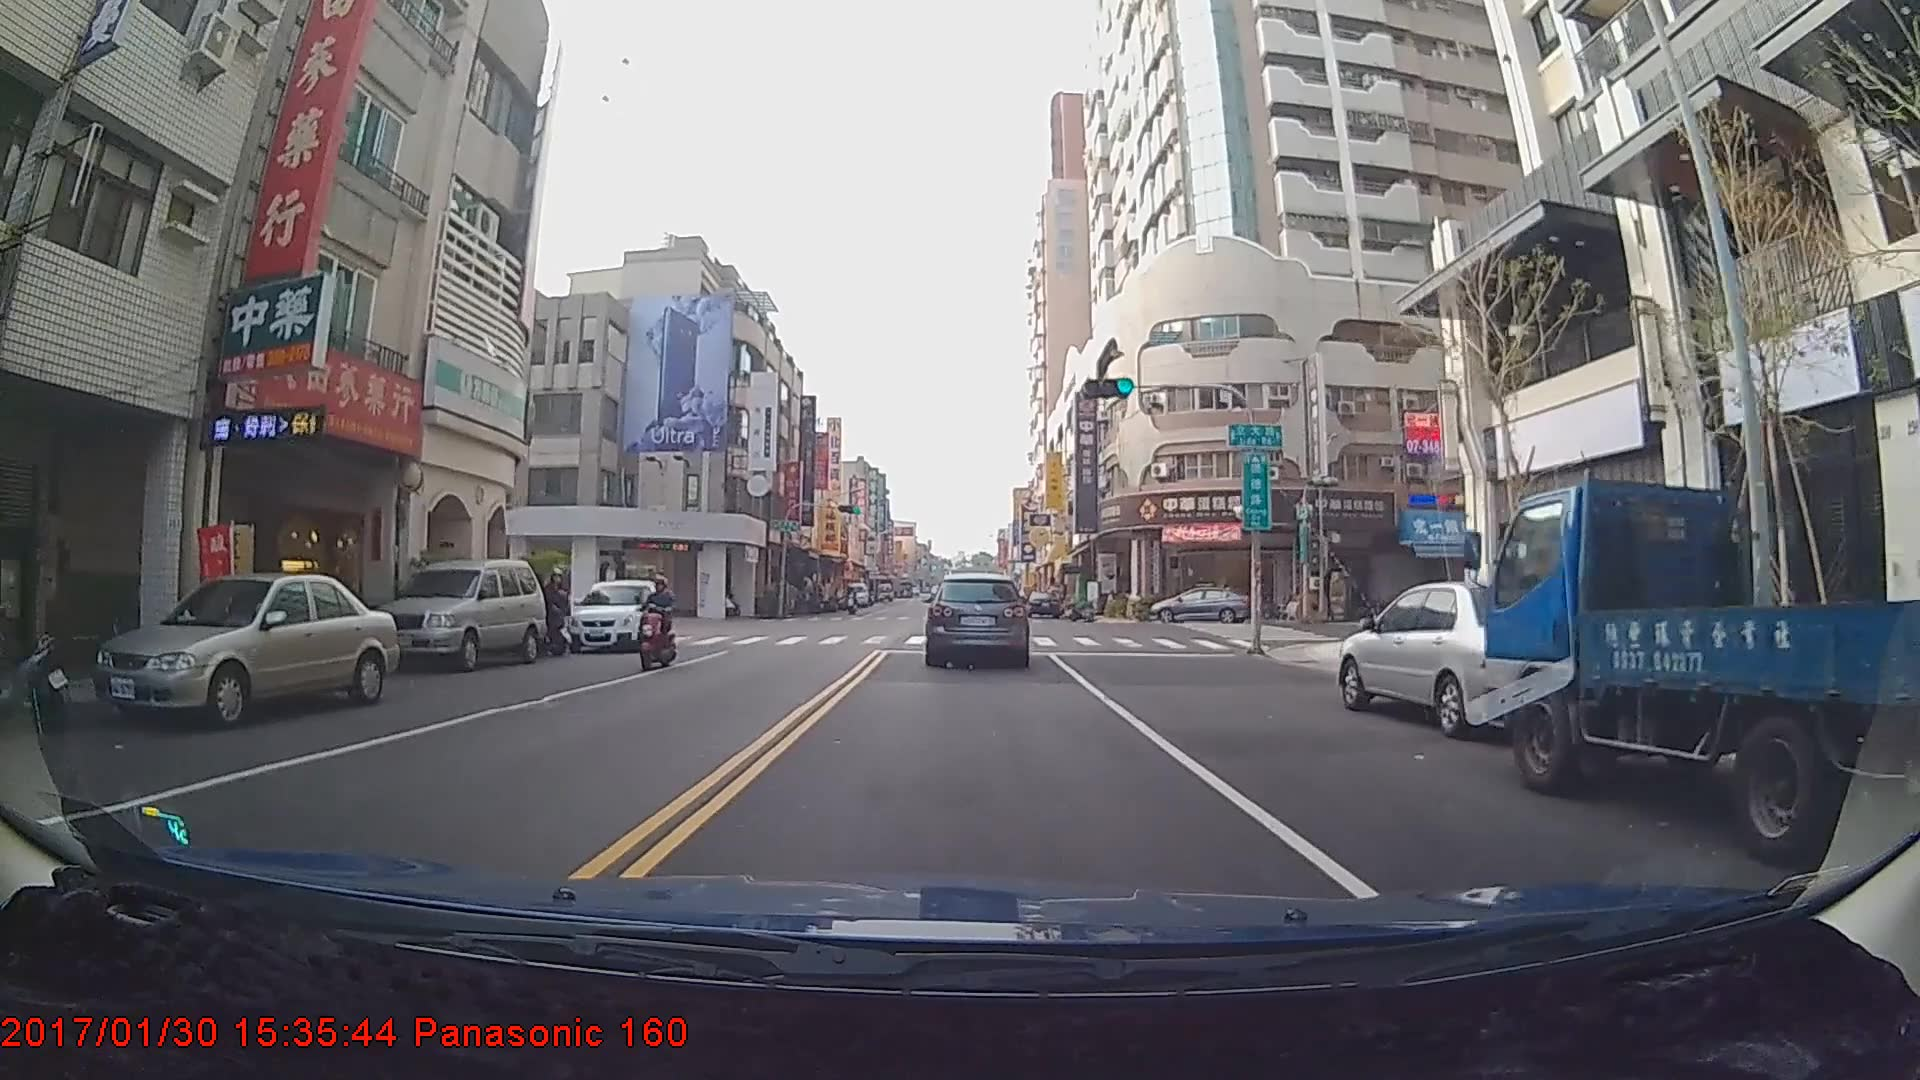rider: (628, 576, 676, 675), (841, 584, 861, 618)
vehicle: (1484, 475, 1920, 865), (92, 573, 390, 732), (1335, 580, 1589, 740), (373, 556, 548, 671), (925, 571, 1029, 668), (566, 576, 661, 652), (1148, 586, 1252, 624), (1023, 589, 1061, 619), (843, 580, 867, 608)
